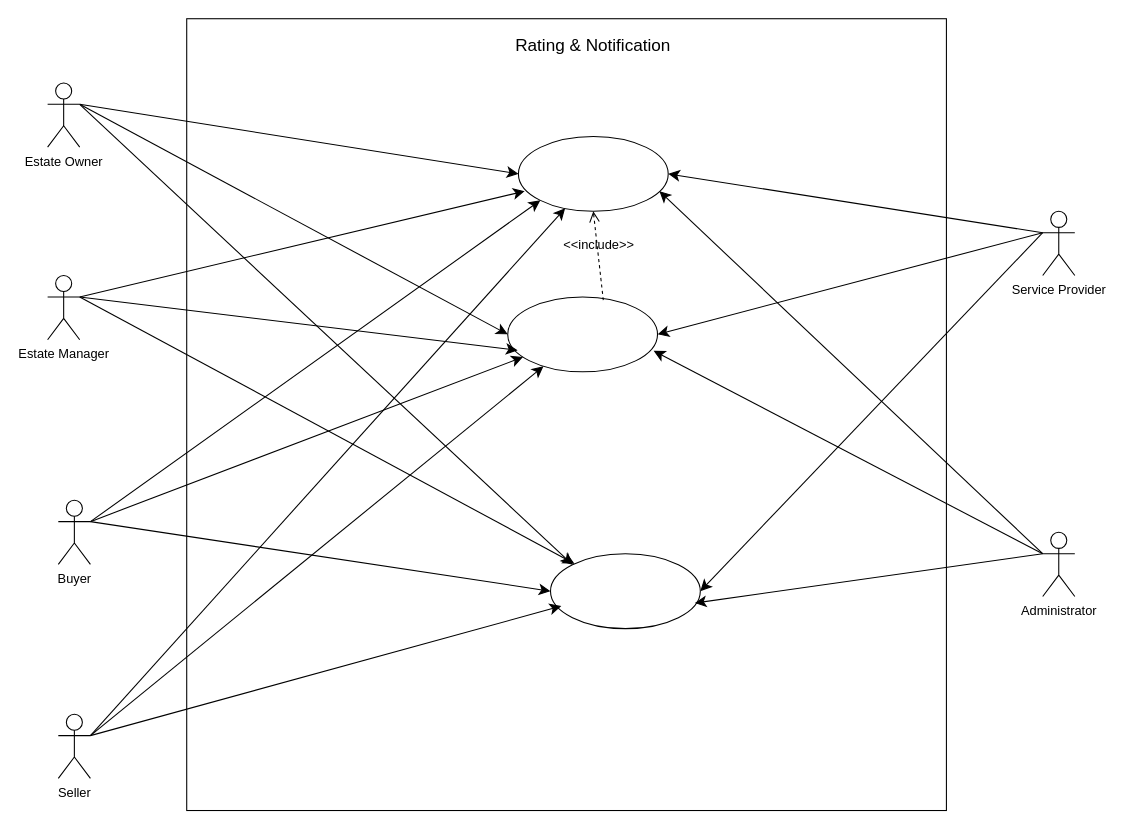
Image size: 1125x829. Some labels were removed from this diagram. The centre of each missing label's shape, as x and y in pixels:
Receive Notifications: [624,591]
Submit Rating: [582,334]
View User Ratings: [592,173]
